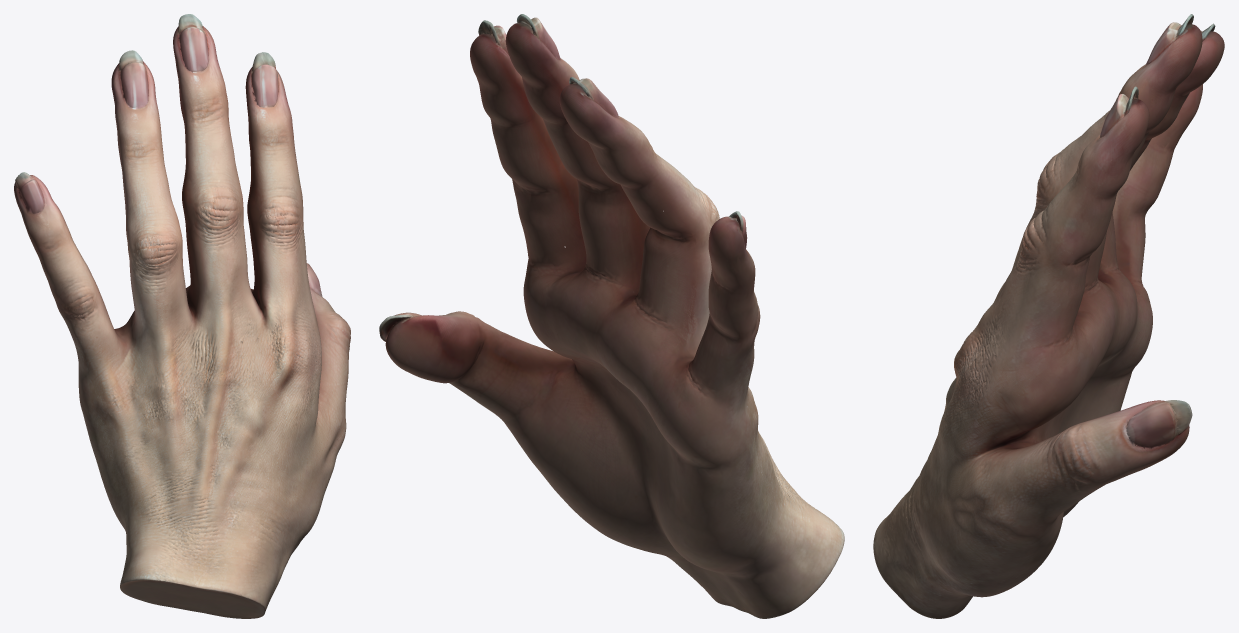
File: tripo-hand.glb
3 renders of one model, left to right at view 1: azimuth 30°, elevation 25°; view 2: azimuth 150°, elevation 25°; view 3: azimuth 270°, elevation 25°, orthographic. The views are drawn at different scales.
Visible parts, largest first — view 1: tripo_hand_original; view 2: tripo_hand_original; view 3: tripo_hand_original.
Part boxes in pixels (bbox=[...]): tripo_hand_original: bbox=[14, 14, 350, 618]; tripo_hand_original: bbox=[379, 14, 844, 618]; tripo_hand_original: bbox=[873, 14, 1224, 618].
Size of the model in its own units: 0.5722 by 0.9797 by 0.4942.
Materials: 1 (1 with a texture image).
